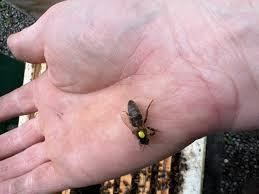Queen-Bee: (117, 95, 165, 152)
